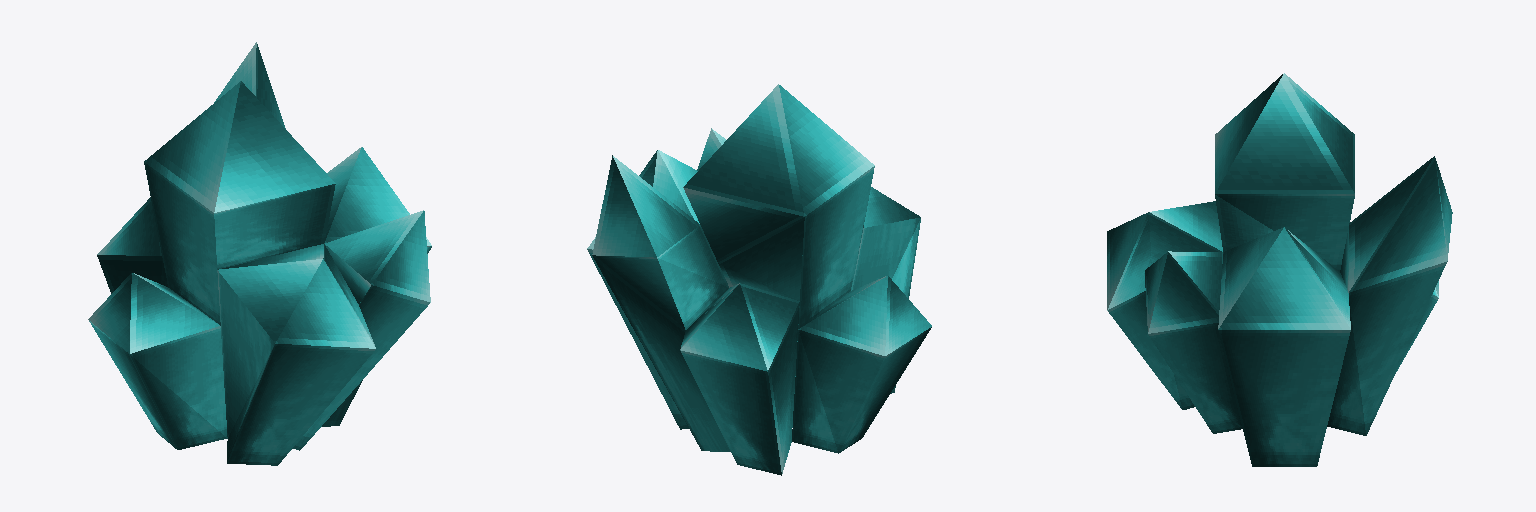
3 views of the same model, side by side, from view 1: azimuth 30°, elevation 25°; view 2: azimuth 150°, elevation 25°; view 3: azimuth 270°, elevation 25° (orthographic).
Visible parts, largest first — view 1: Dec4; view 2: Dec4; view 3: Dec4.
Boxes of the visible parts, x1=… form: Dec4: x1=88, y1=42, x2=431, y2=465; Dec4: x1=587, y1=84, x2=931, y2=475; Dec4: x1=1107, y1=73, x2=1452, y2=466.
Bounding box in the file's own units: 3.97 × 4.61 × 4.08.
Materials: 1 (1 with a texture image).